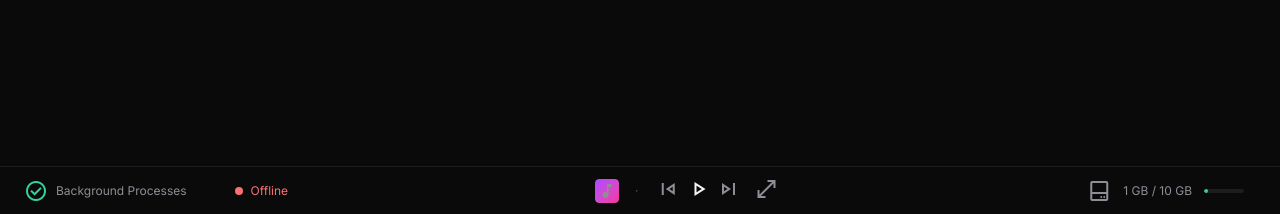
StatusBar (FE-7 fake telemetry removal) › never renders the hardcoded connection type or download speed
Note: Open the network popover
Click the button with class "network-status": [261, 190] box top-left (235, 182), bottom-right (288, 198)
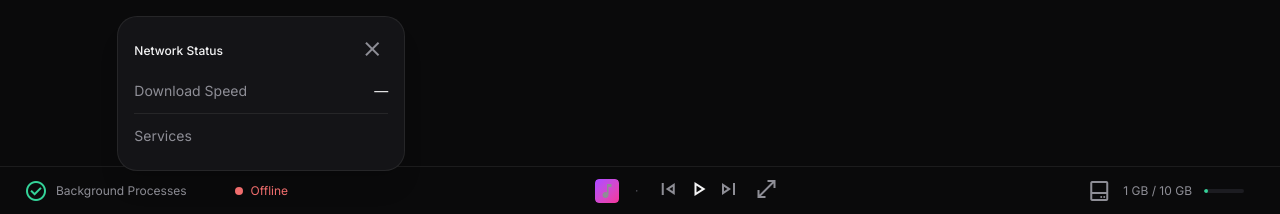
Expected: the text "—" is shown, top-left (374, 80), bottom-right (388, 100)
